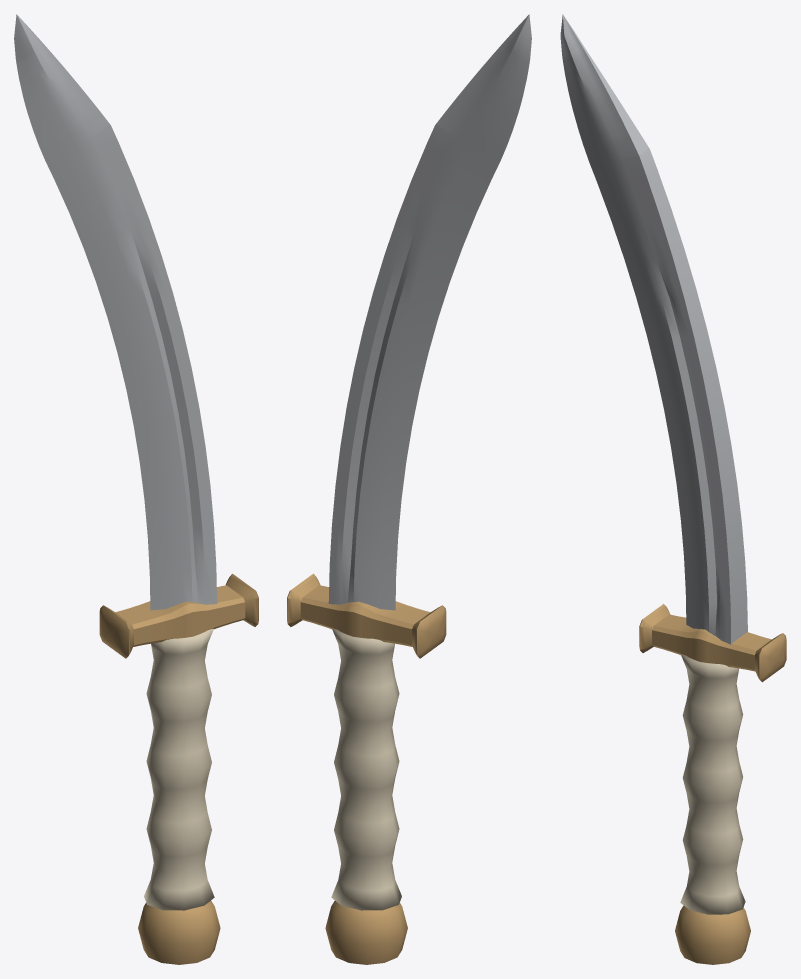
File: sica.glb
The picture shows the model from 3 angles, left to right: view 1: azimuth 30°, elevation 25°; view 2: azimuth 150°, elevation 25°; view 3: azimuth 330°, elevation 25°; orthographic projection. The views are drawn at different scales.
Parts seen in each view (by area): view 1: sica; view 2: sica; view 3: sica.
Boxes of the visible parts, x1=… form: sica: x1=14, y1=14, x2=258, y2=964; sica: x1=287, y1=14, x2=531, y2=964; sica: x1=560, y1=14, x2=786, y2=964.
Bounding box in the file's own units: 0.2363 × 0.9475 × 0.072.
